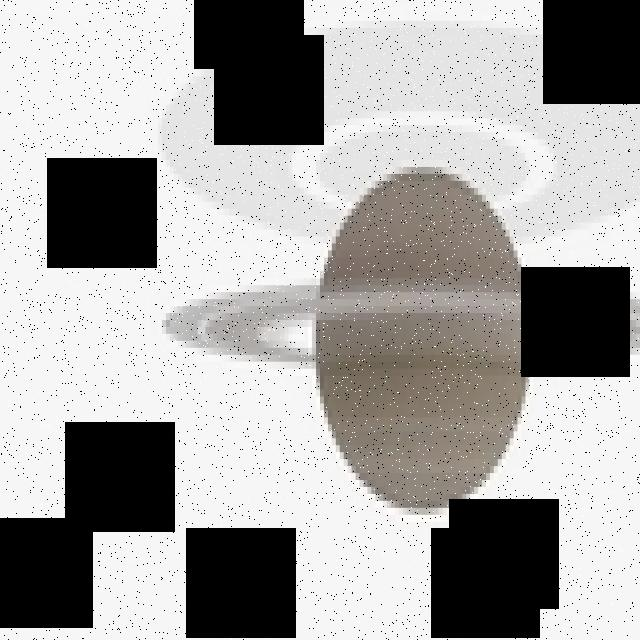Saturn: (162, 174, 640, 522)
